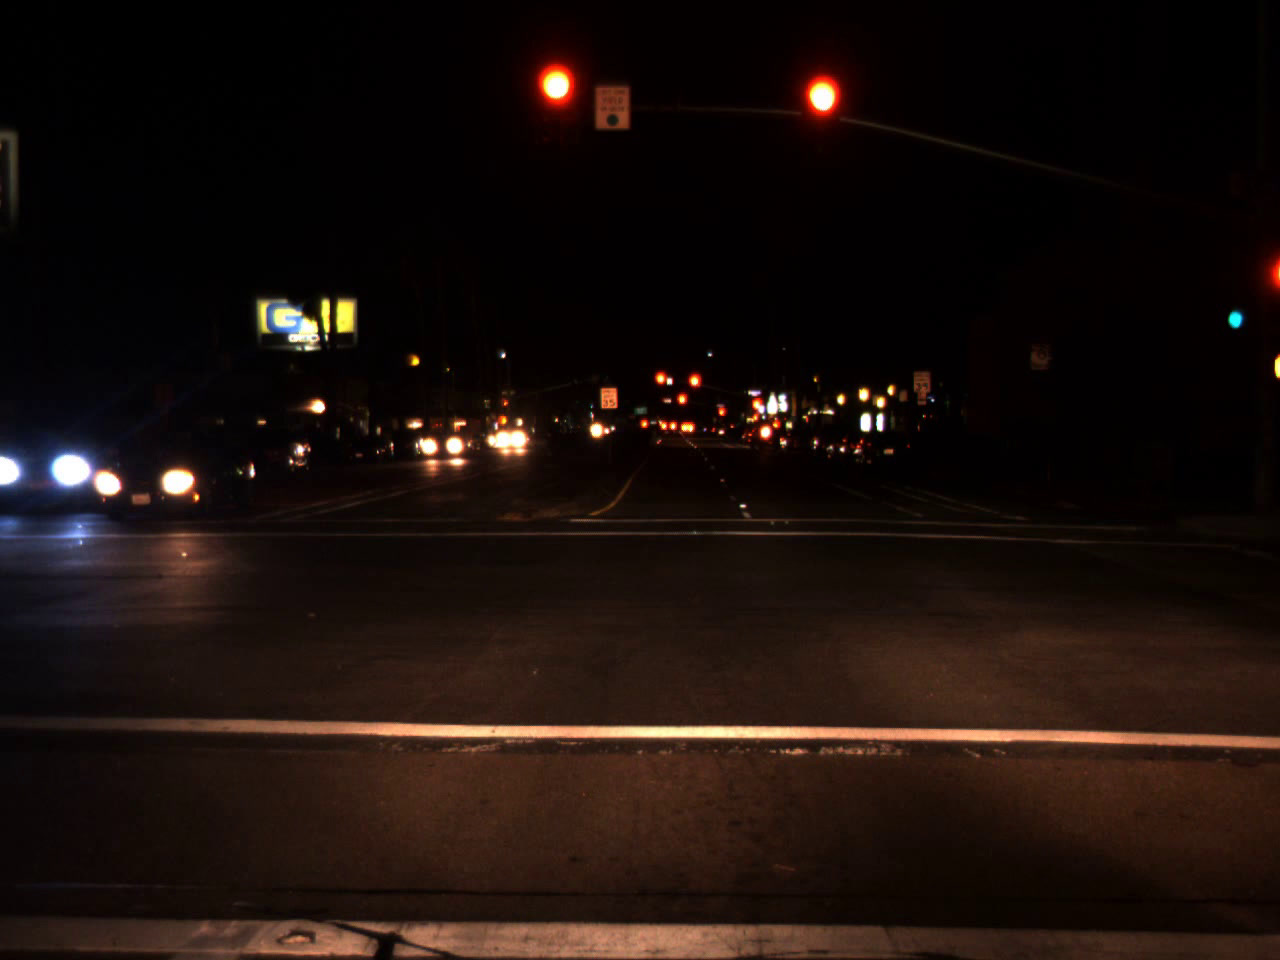stop: (538, 64, 578, 142), (802, 75, 839, 153), (653, 369, 669, 401), (686, 371, 702, 403), (676, 391, 688, 418), (750, 396, 763, 412), (717, 407, 724, 423), (502, 400, 508, 410)
